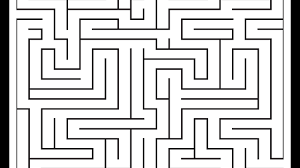maze: (9, 1, 290, 167)
